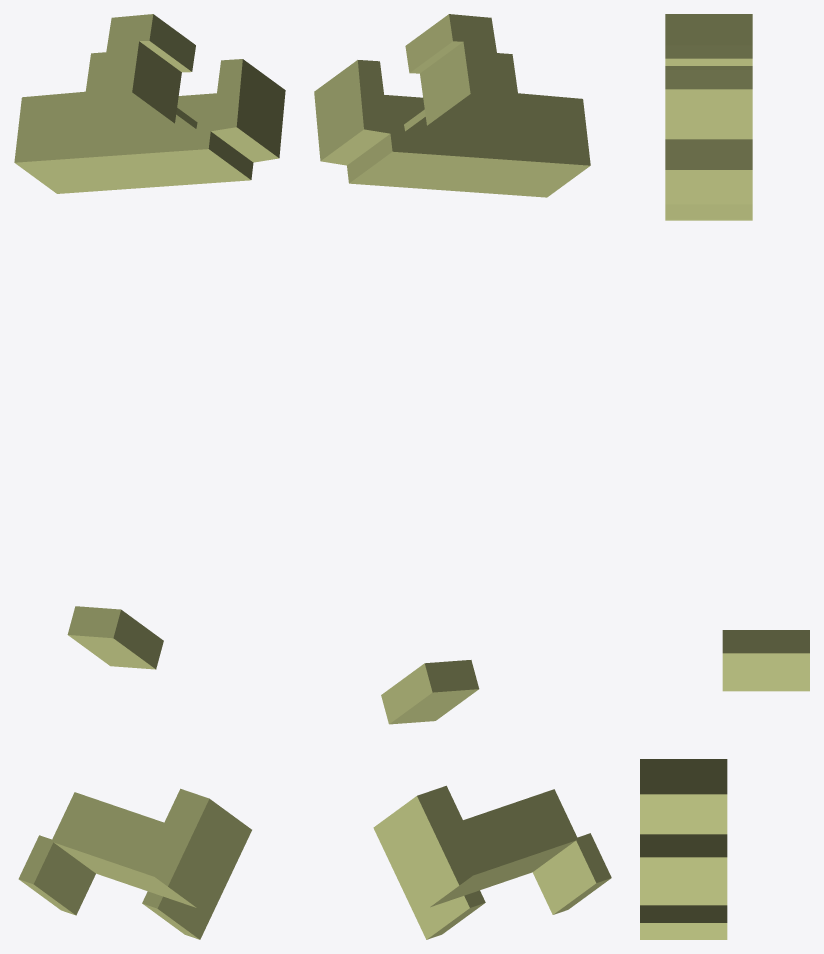
The picture shows the model from 3 angles, left to right: view 1: azimuth 30°, elevation 25°; view 2: azimuth 150°, elevation 25°; view 3: azimuth 270°, elevation 25°; orthographic projection. The views are drawn at different scales.
Parts seen in each view (by area): view 1: 0_0_1_3_2_1_2_1; view 2: 0_0_1_3_2_1_2_1; view 3: 0_0_1_3_2_1_2_1.
Boxes of the visible parts, <box> form: 0_0_1_3_2_1_2_1: <box>14,14,285,939</box>; 0_0_1_3_2_1_2_1: <box>314,14,611,939</box>; 0_0_1_3_2_1_2_1: <box>640,14,809,939</box>.
Size of the model in its own units: 28.78 by 103 by 17.5.
